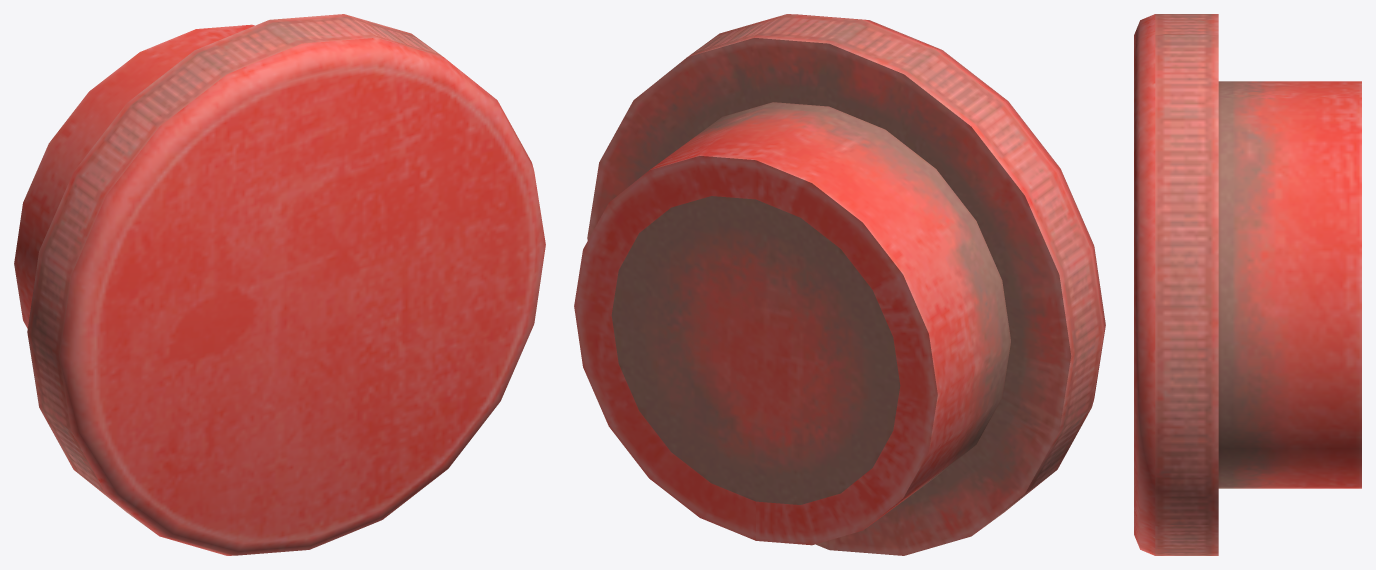
File: gateSwitchButton01.FBX
3 views of the same model, side by side, from view 1: azimuth 30°, elevation 25°; view 2: azimuth 150°, elevation 25°; view 3: azimuth 270°, elevation 25° (orthographic). The views are drawn at different scales.
Parts seen in each view (by area): view 1: SM_GateSwitchButton01; view 2: SM_GateSwitchButton01; view 3: SM_GateSwitchButton01.
Boxes of the visible parts, <box> form: SM_GateSwitchButton01: <box>14,14,545,555</box>; SM_GateSwitchButton01: <box>574,14,1105,555</box>; SM_GateSwitchButton01: <box>1134,14,1361,555</box>.
Size of the model in its own units: 6.44 by 6.44 by 2.69.
1 material, 1 textured.
